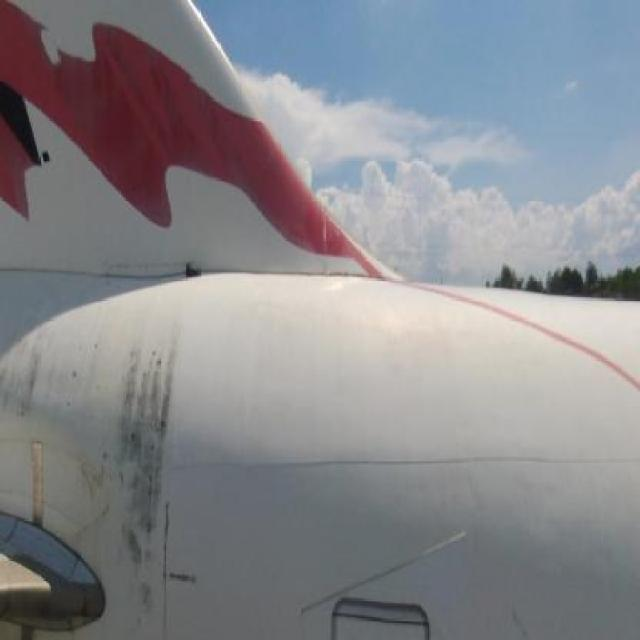Rust: (104, 313, 233, 630), (2, 272, 101, 438)
Scartch: (160, 497, 208, 614), (506, 589, 539, 640)
